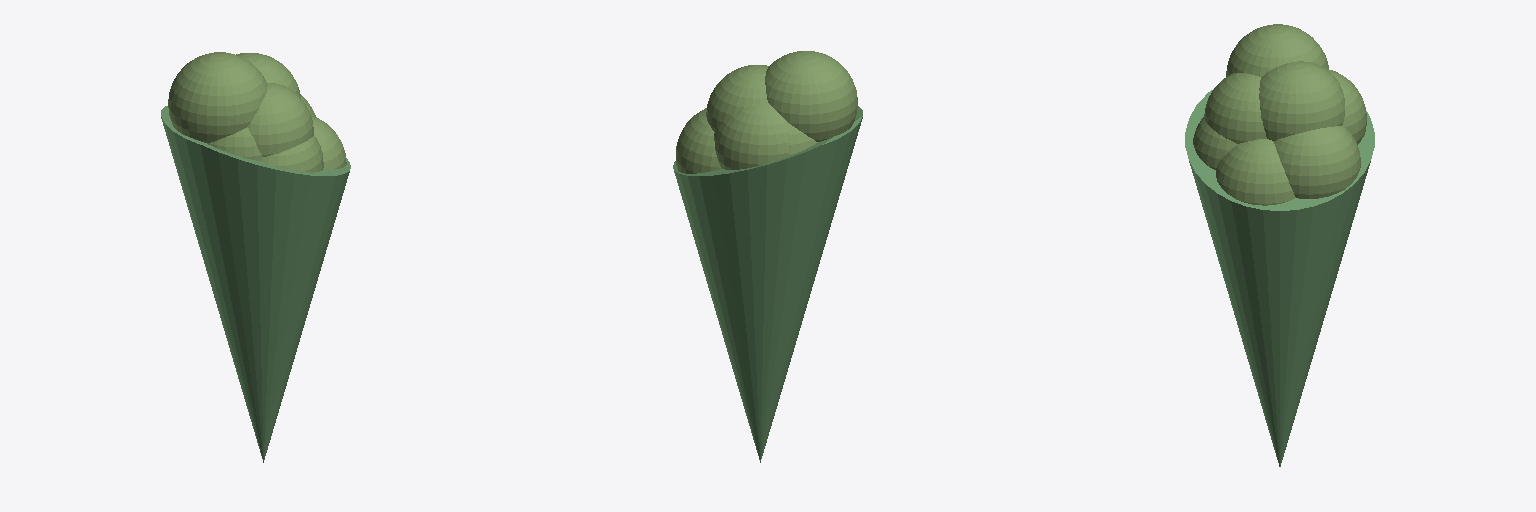
The model's file is icecream3.obj.
3 renders of one model, left to right at view 1: azimuth 30°, elevation 25°; view 2: azimuth 150°, elevation 25°; view 3: azimuth 270°, elevation 25°, orthographic.
Parts seen in each view (by area): view 1: Cone, Sphere.008, Sphere.006, Sphere.001, Sphere.004, Sphere.005, Sphere; view 2: Cone, Sphere.008, Sphere.007, Sphere.005, Sphere.003; view 3: Cone, Sphere.005, Sphere.003, Sphere.004, Sphere.008, Sphere.006, Sphere.007, Sphere.001.
Part boxes in pixels (left/top/right/bottom): Cone: left=161, top=106, right=350, bottom=462; Sphere.008: left=168, top=52, right=267, bottom=142; Sphere.006: left=248, top=83, right=313, bottom=156; Sphere.001: left=261, top=135, right=323, bottom=172; Sphere.004: left=311, top=115, right=346, bottom=168; Sphere.005: left=236, top=53, right=300, bottom=97; Sphere: left=207, top=127, right=263, bottom=160; Cone: left=673, top=106, right=862, bottom=462; Sphere.008: left=765, top=51, right=857, bottom=141; Sphere.007: left=714, top=103, right=789, bottom=169; Sphere.005: left=706, top=65, right=768, bottom=131; Sphere.003: left=676, top=108, right=721, bottom=173; Cone: left=1185, top=89, right=1374, bottom=466; Sphere.005: left=1259, top=61, right=1344, bottom=140; Sphere.003: left=1273, top=126, right=1360, bottom=198; Sphere.004: left=1216, top=139, right=1295, bottom=205; Sphere.008: left=1226, top=24, right=1328, bottom=76; Sphere.006: left=1204, top=73, right=1266, bottom=143; Sphere.007: left=1326, top=69, right=1366, bottom=144; Sphere.001: left=1193, top=117, right=1236, bottom=169.
Size of the model in its own units: 1.47 by 3.55 by 1.46.